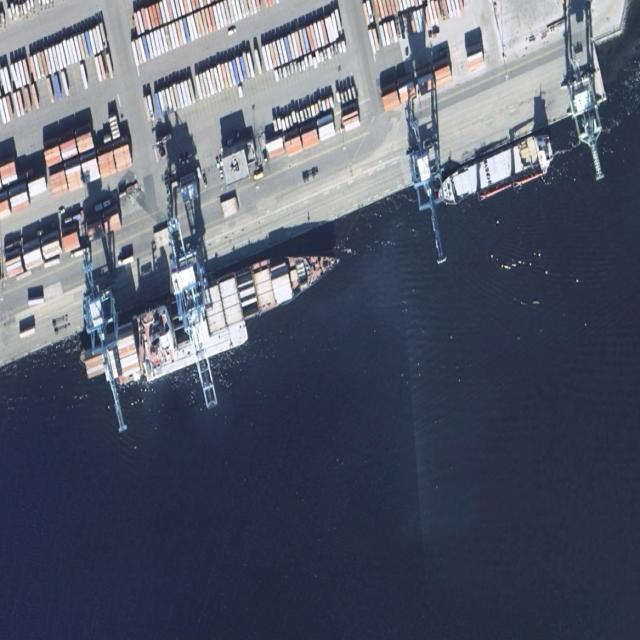Cargo: (435, 127, 557, 212)
Container Ship: (75, 230, 345, 389)
